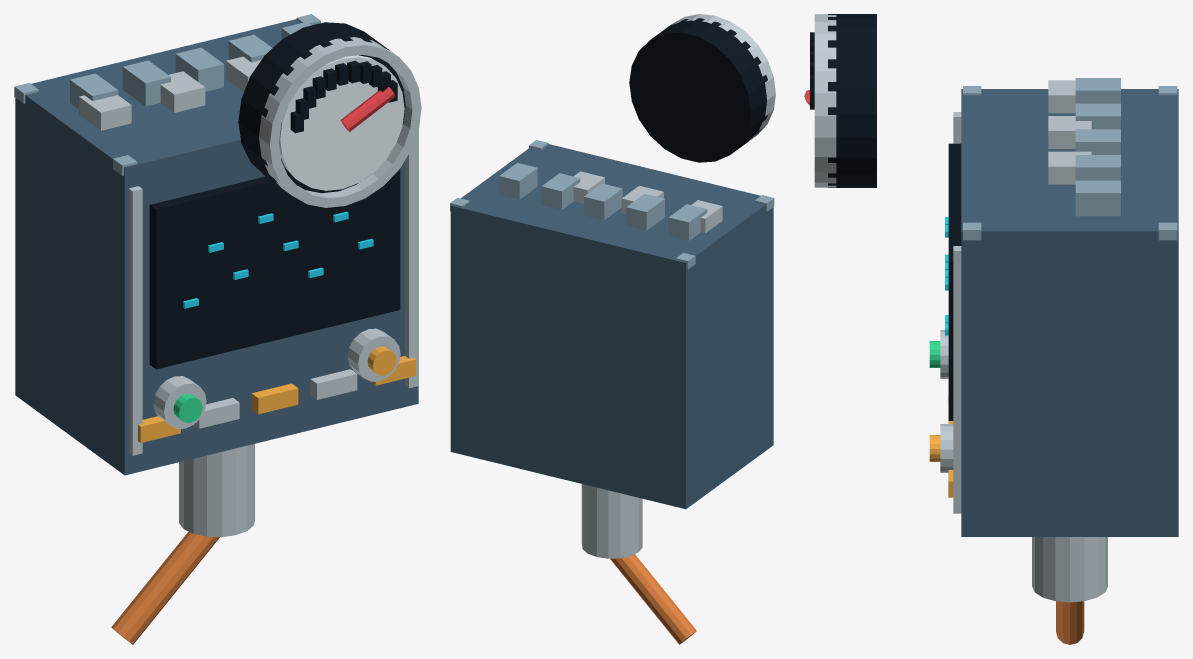
The model's file is 28_L76_PlatingCellVoltageSensor.fbx.
The picture shows the model from 3 angles, left to right: view 1: azimuth 30°, elevation 25°; view 2: azimuth 150°, elevation 25°; view 3: azimuth 270°, elevation 25°; orthographic projection. The views are drawn at different scales.
Visible parts, largest first — view 1: PlatingCellVoltageSensor; view 2: PlatingCellVoltageSensor; view 3: PlatingCellVoltageSensor.
Part boxes in pixels (x1=…): PlatingCellVoltageSensor: x1=14, y1=14, x2=421, y2=644; PlatingCellVoltageSensor: x1=450, y1=14, x2=775, y2=644; PlatingCellVoltageSensor: x1=804, y1=14, x2=1178, y2=644.
Size of the model in its own units: 62.72 by 135 by 68.9.
